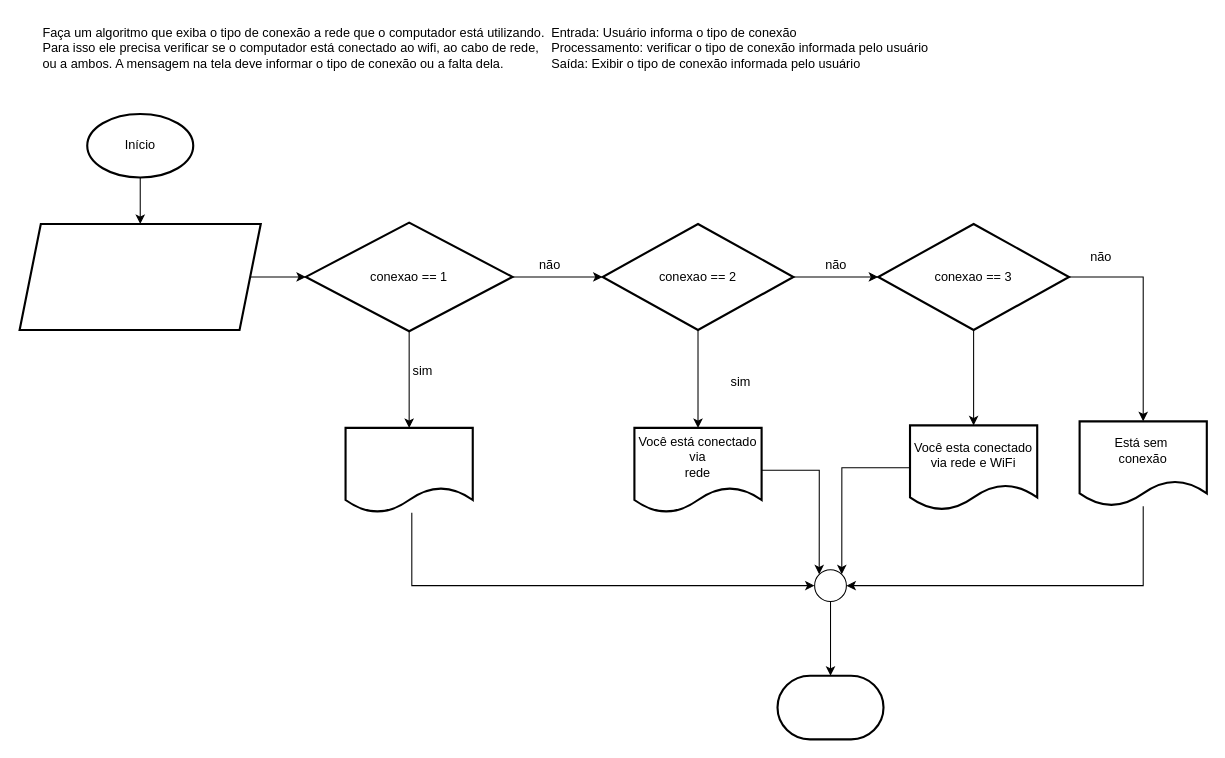
Some shapes in this 1225 by 758 pixel diagram are drawn without their labels. Each missing label, with the box of its shape:
Fim: (776, 674, 884, 740)
Informe o tipo de conexão utilizado 1- Wifi 2- Rede 3-wifi e rede (conexao): (18, 222, 261, 331)
Você está conectado via WIFI: (344, 426, 473, 513)
